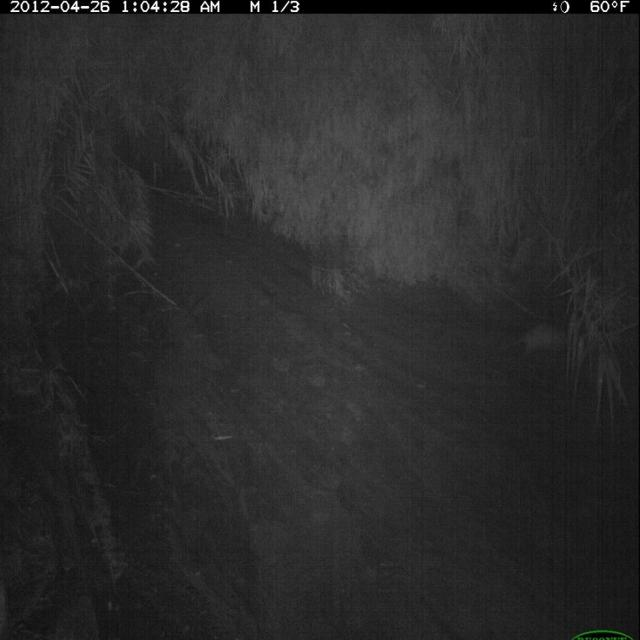opossum: (495, 319, 581, 367)
